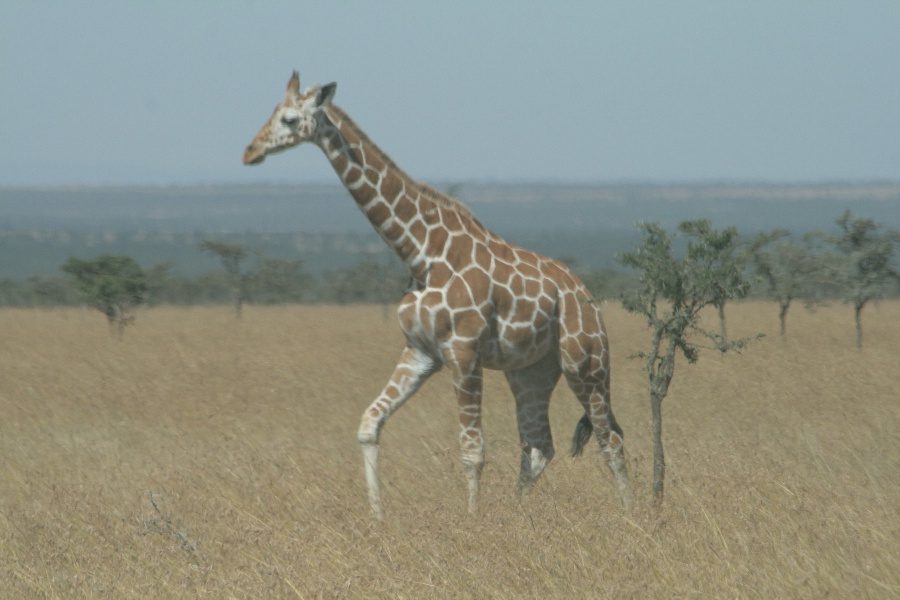giraffe: (231, 64, 653, 530)
